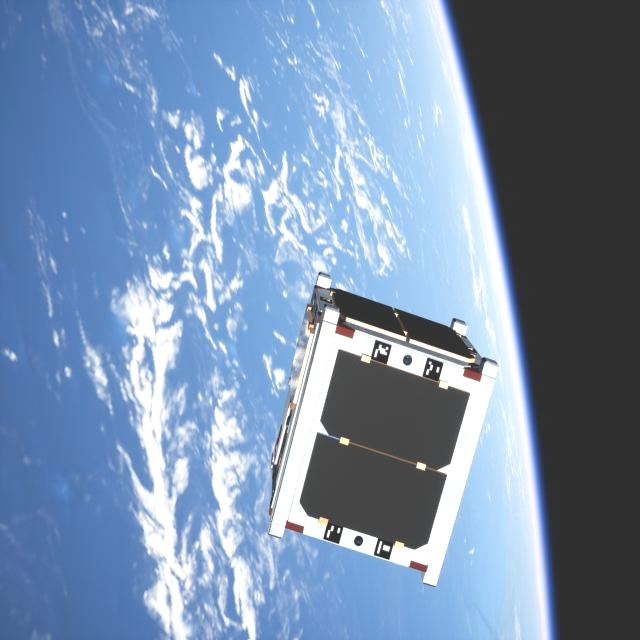medium_debris: (261, 274, 497, 587)
